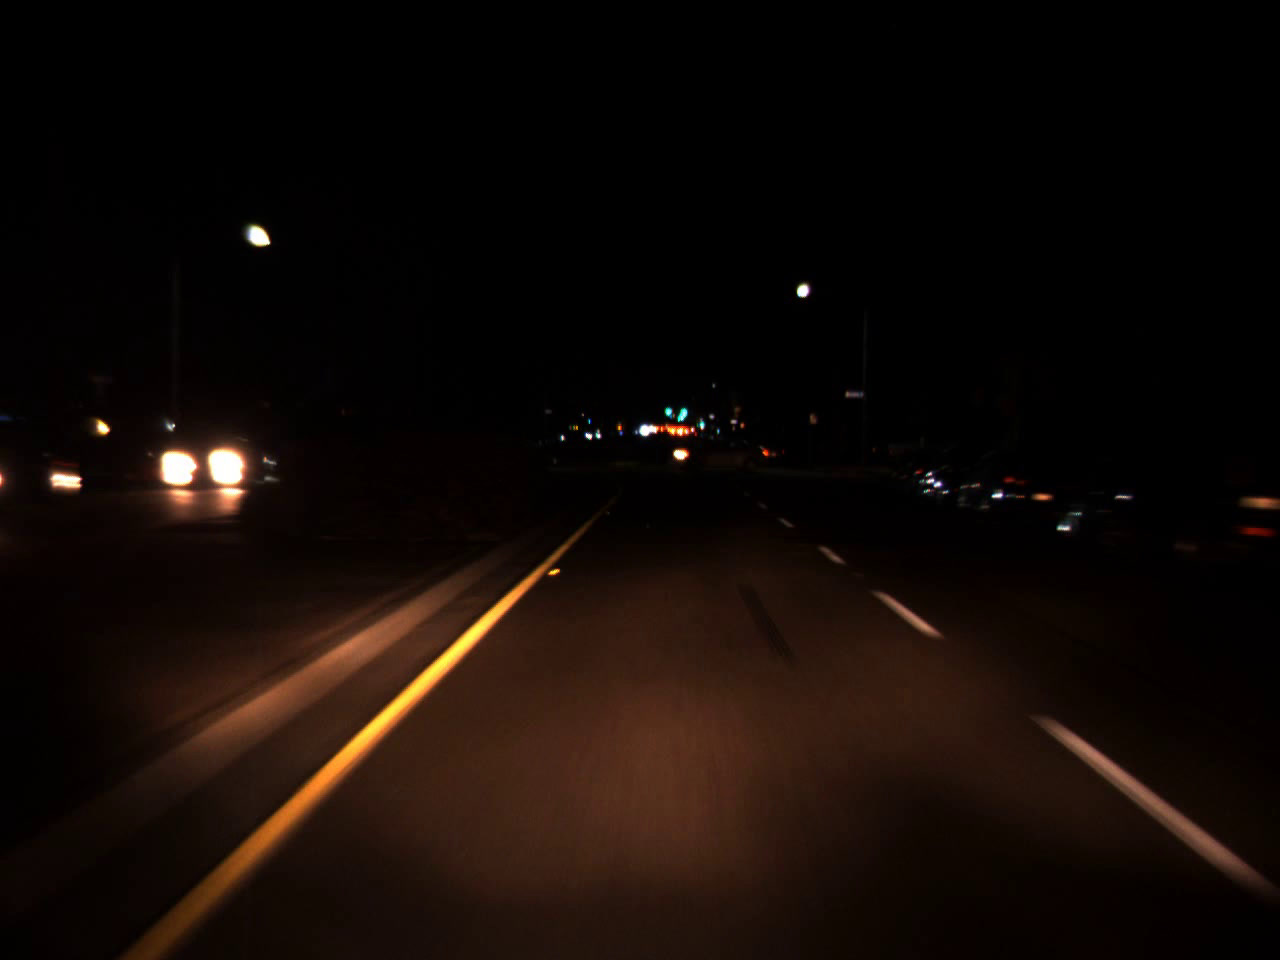go: (674, 389, 688, 428), (663, 397, 672, 418), (697, 413, 706, 428)
